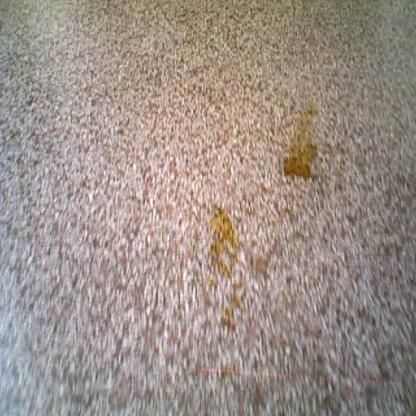liquid: (282, 107, 319, 182), (205, 206, 240, 285), (219, 289, 243, 332)
